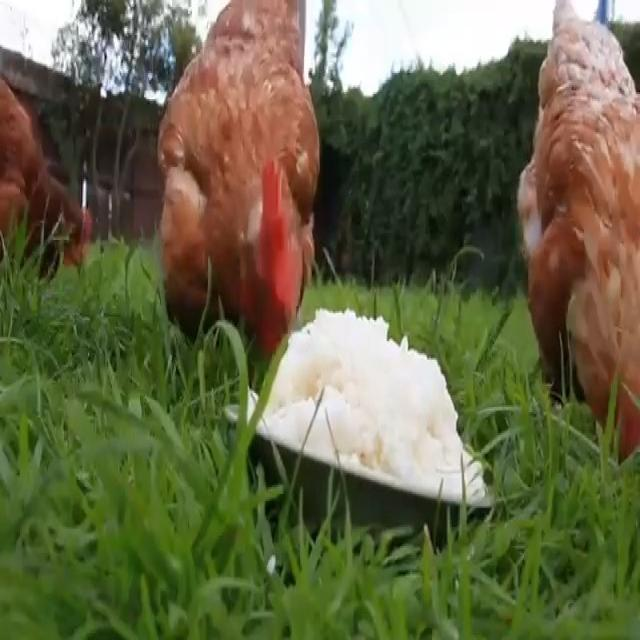feeding: (161, 0, 329, 330)
